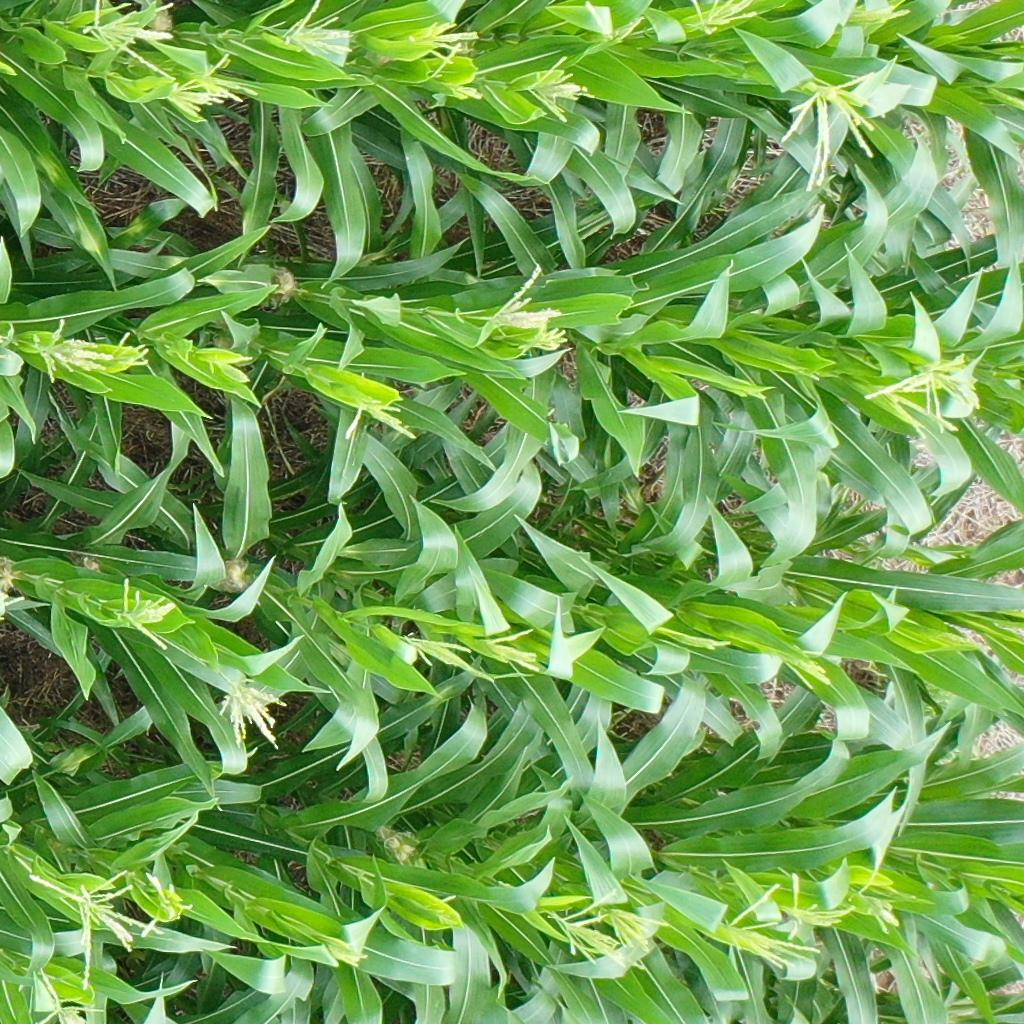Tassel: (24, 868, 146, 988), (780, 70, 897, 194), (860, 352, 985, 434), (722, 879, 825, 972), (81, 1, 180, 82), (551, 887, 645, 972), (166, 52, 265, 121), (484, 262, 561, 337), (215, 676, 289, 753), (401, 630, 499, 688), (778, 871, 860, 940), (32, 319, 117, 384), (523, 52, 596, 120), (115, 576, 178, 652), (28, 964, 107, 1024), (281, 1, 354, 59), (138, 873, 193, 936), (344, 396, 416, 443), (407, 20, 480, 63), (860, 873, 907, 935), (780, 640, 836, 692), (607, 906, 670, 951), (583, 3, 647, 47), (493, 626, 546, 677), (687, 1, 760, 38), (429, 70, 485, 107), (107, 330, 154, 371), (847, 1, 913, 30), (423, 891, 462, 935), (323, 935, 367, 970), (525, 325, 571, 353), (209, 350, 251, 376)
